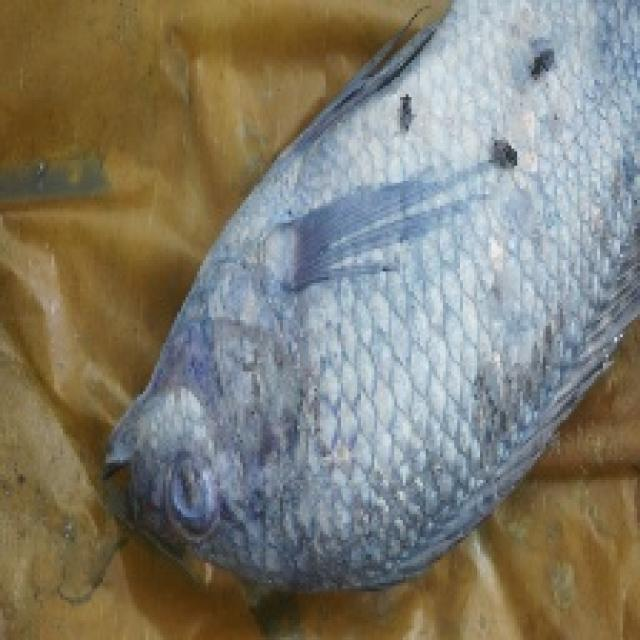Non-Fresh: (79, 77, 626, 611)
